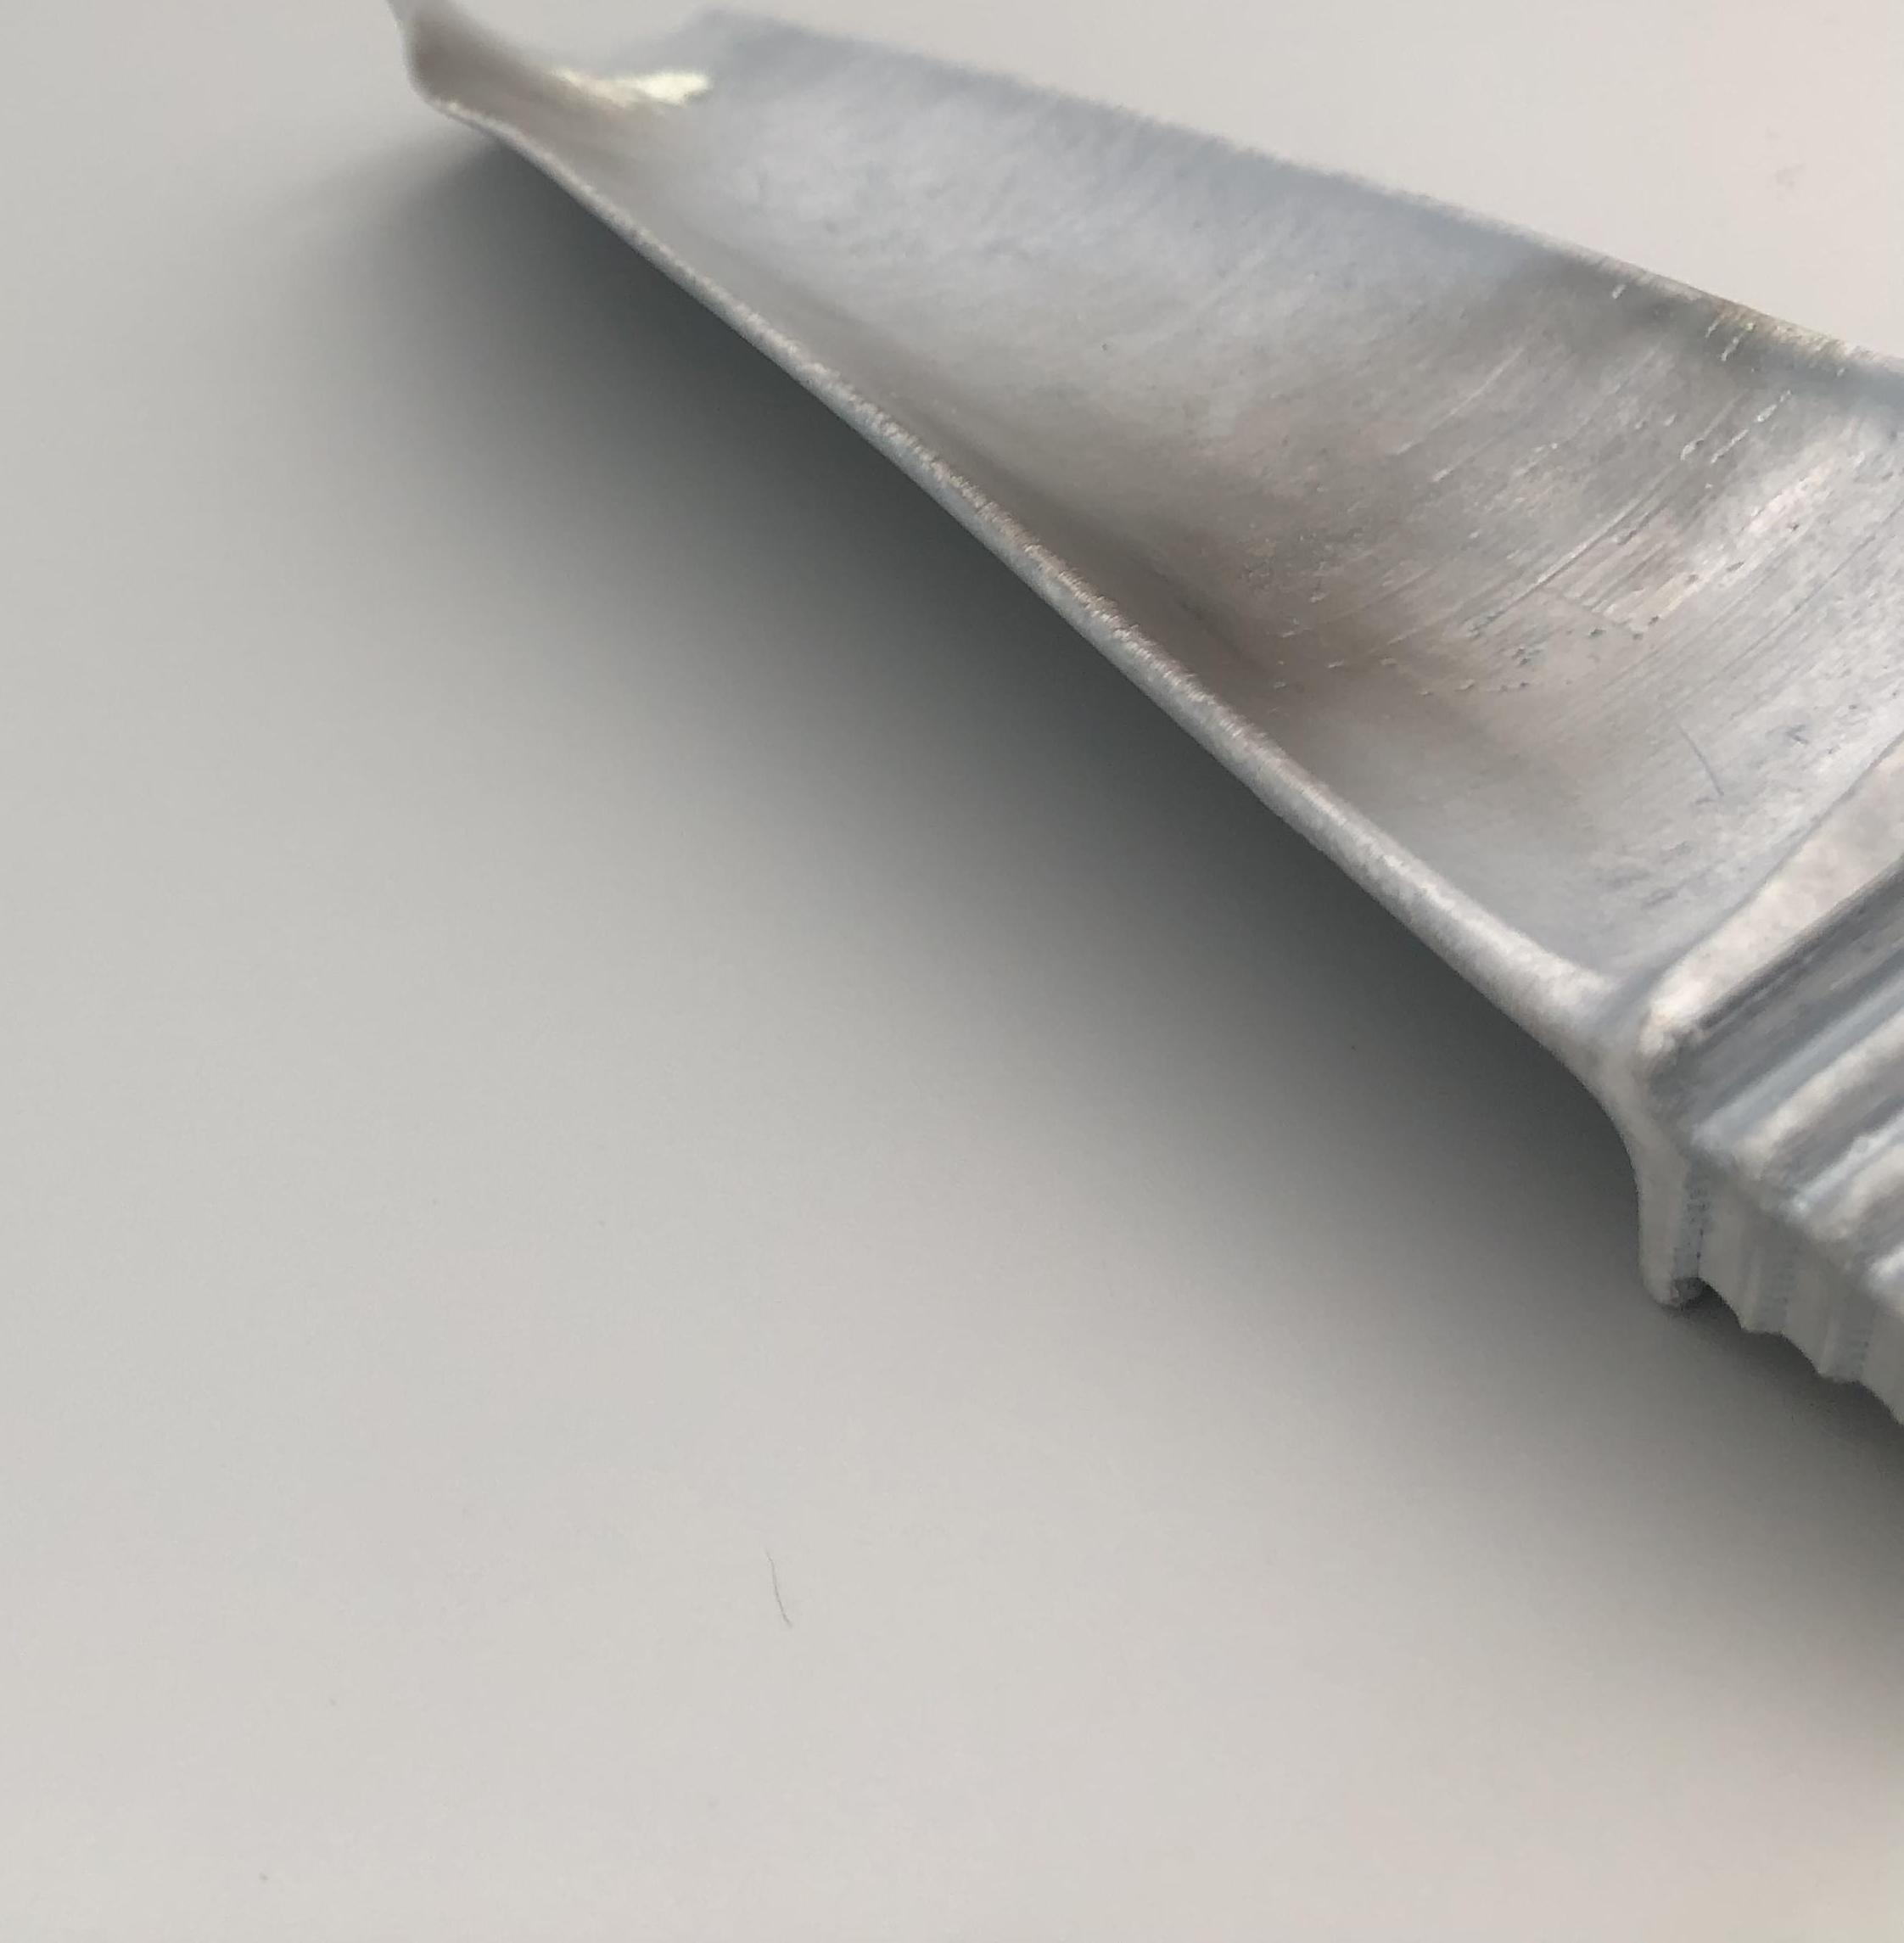ablation: (1053, 443, 1449, 720), (466, 45, 642, 166)
